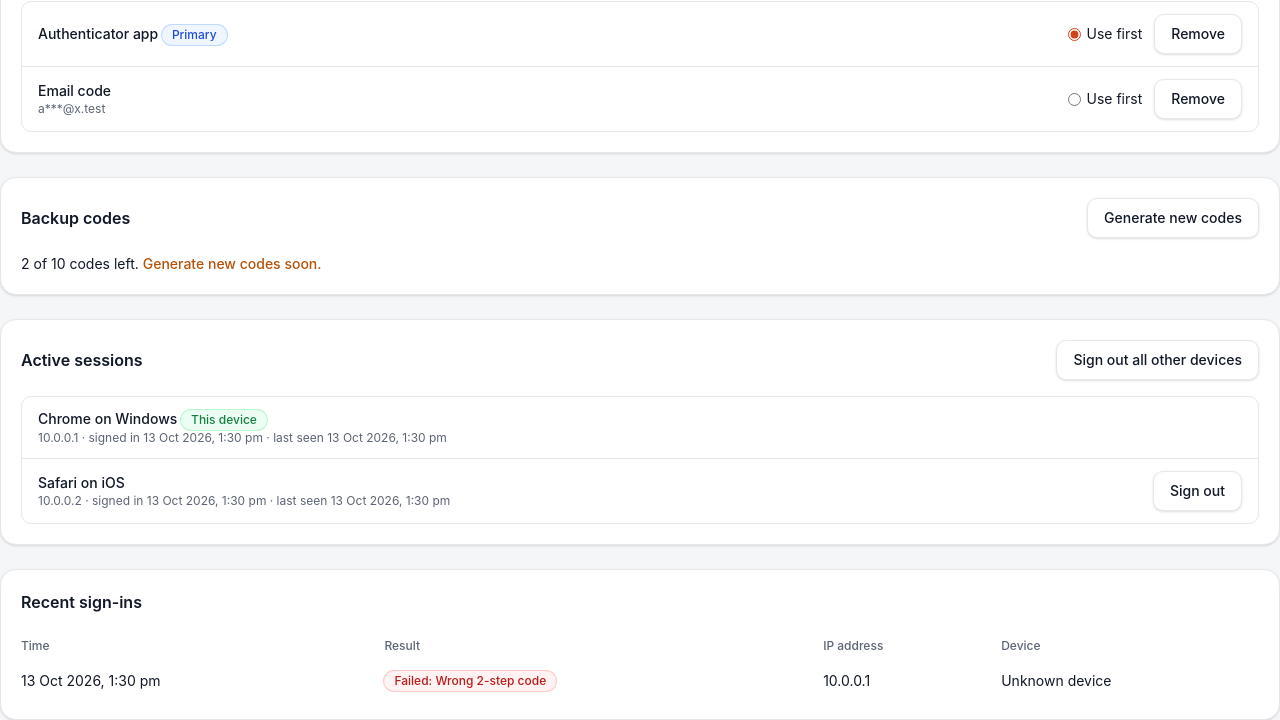
Scenario: /account/security › sign out all other devices
(page scrolled)
What coordinates should you click on to do the following:
click the button "Sign out all other devices"
I would click on:
 (1158, 360)
Its box is [1056, 340, 1259, 380].
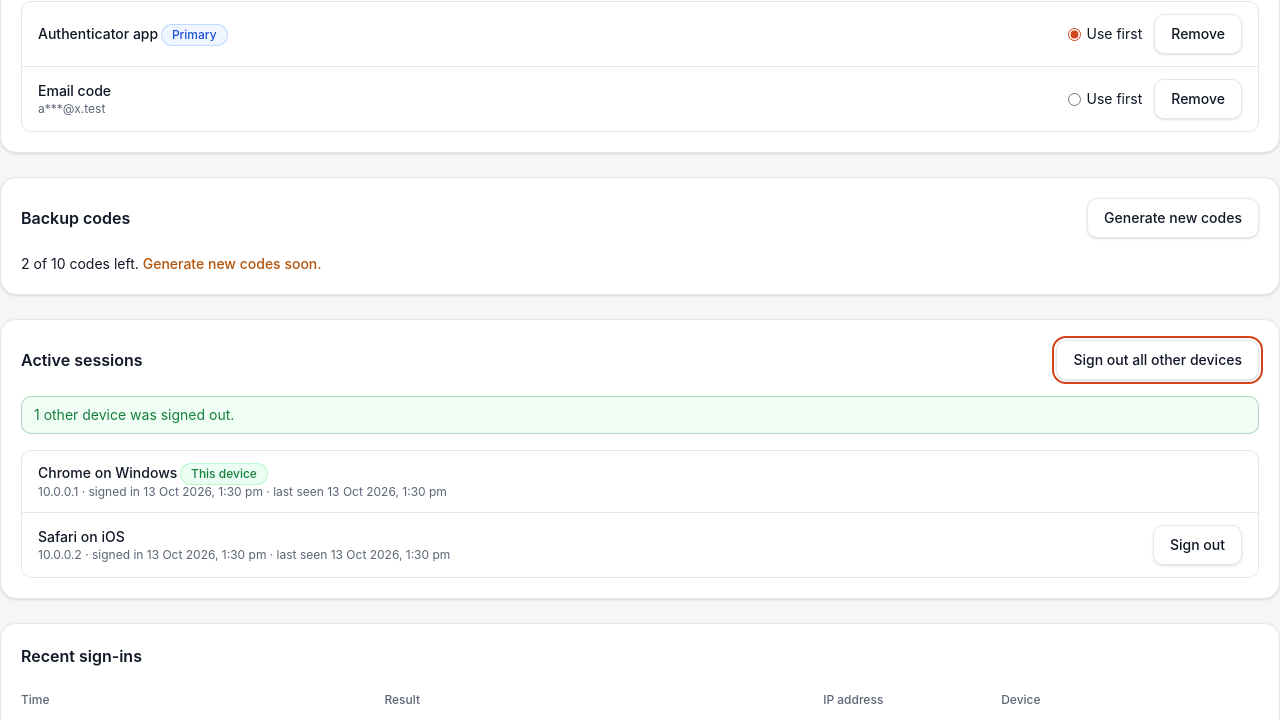
expect the text "1 other device was signed out." is shown: met, box [21, 396, 1259, 434]
